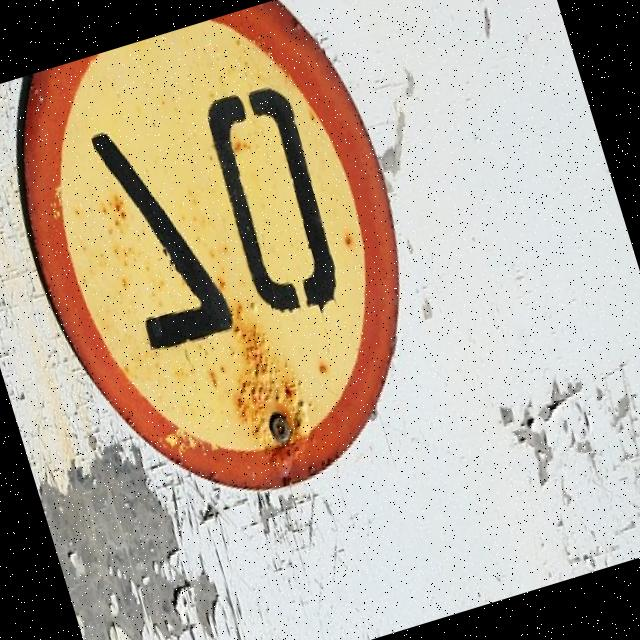speed_limit_70: (0, 0, 471, 553)
